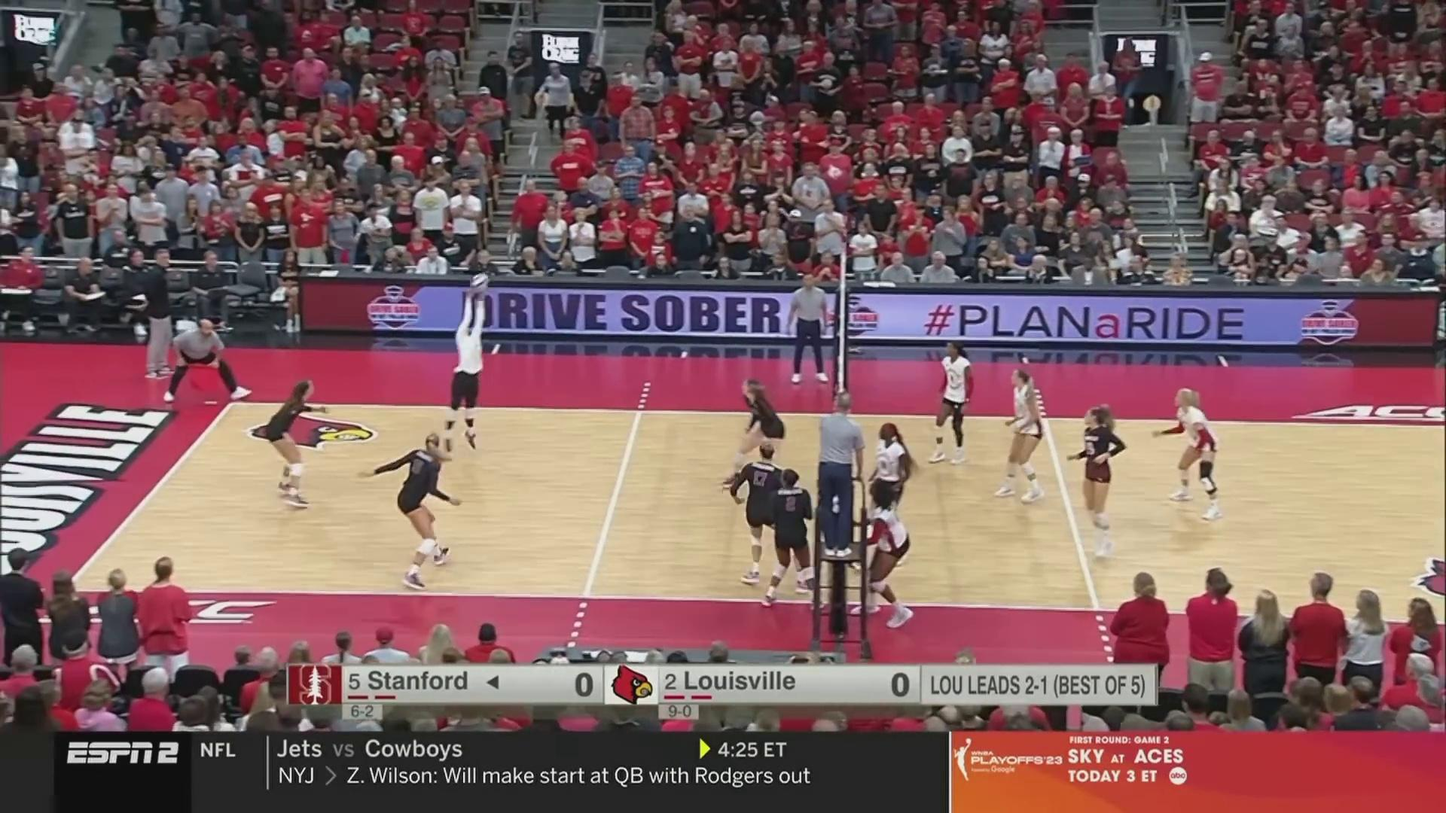player: (357, 434, 462, 588), (730, 445, 814, 593), (1064, 403, 1128, 557), (853, 482, 916, 630), (1152, 387, 1220, 519), (764, 470, 823, 609), (266, 376, 327, 507), (444, 291, 488, 453), (864, 424, 914, 558), (996, 368, 1045, 500), (728, 378, 786, 487), (929, 340, 973, 463)
refree: (816, 391, 864, 555), (167, 317, 250, 402), (787, 273, 828, 383)
